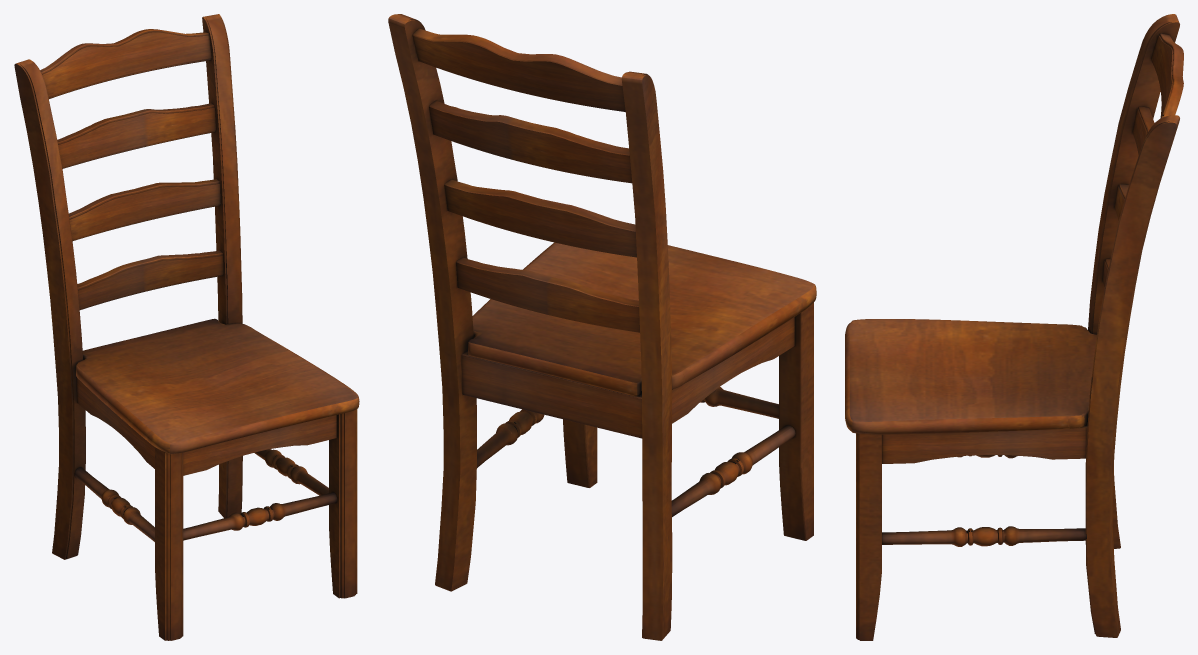
Rendered from Wooden Chair.FBX.
3 views of the same model, side by side, from view 1: azimuth 30°, elevation 25°; view 2: azimuth 150°, elevation 25°; view 3: azimuth 270°, elevation 25° (orthographic). The views are drawn at different scales.
Visible parts, largest first — view 1: Wooden_Chair; view 2: Wooden_Chair; view 3: Wooden_Chair.
Part boxes in pixels (x1,y1,x2,y2): Wooden_Chair: [14, 14, 359, 640]; Wooden_Chair: [388, 14, 816, 640]; Wooden_Chair: [845, 14, 1183, 640].
Bounding box in the file's own units: 16.92 × 22.16 × 37.77.
Materials: 1 (1 with a texture image).
